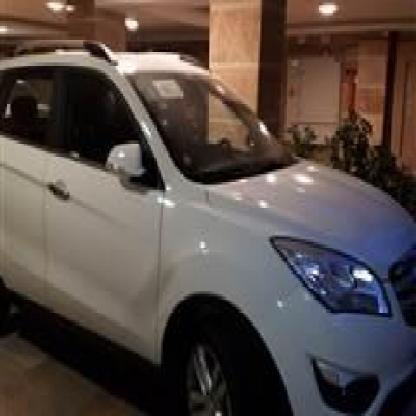Car: (0, 28, 407, 416)
